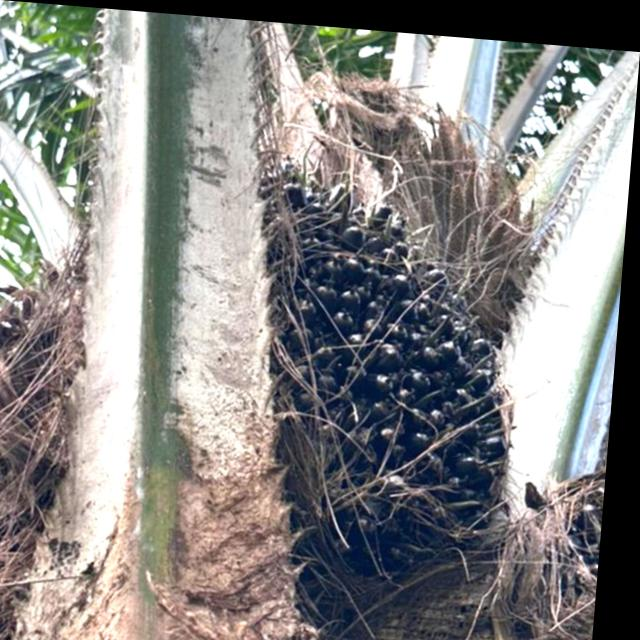unripe: (236, 130, 548, 587)
